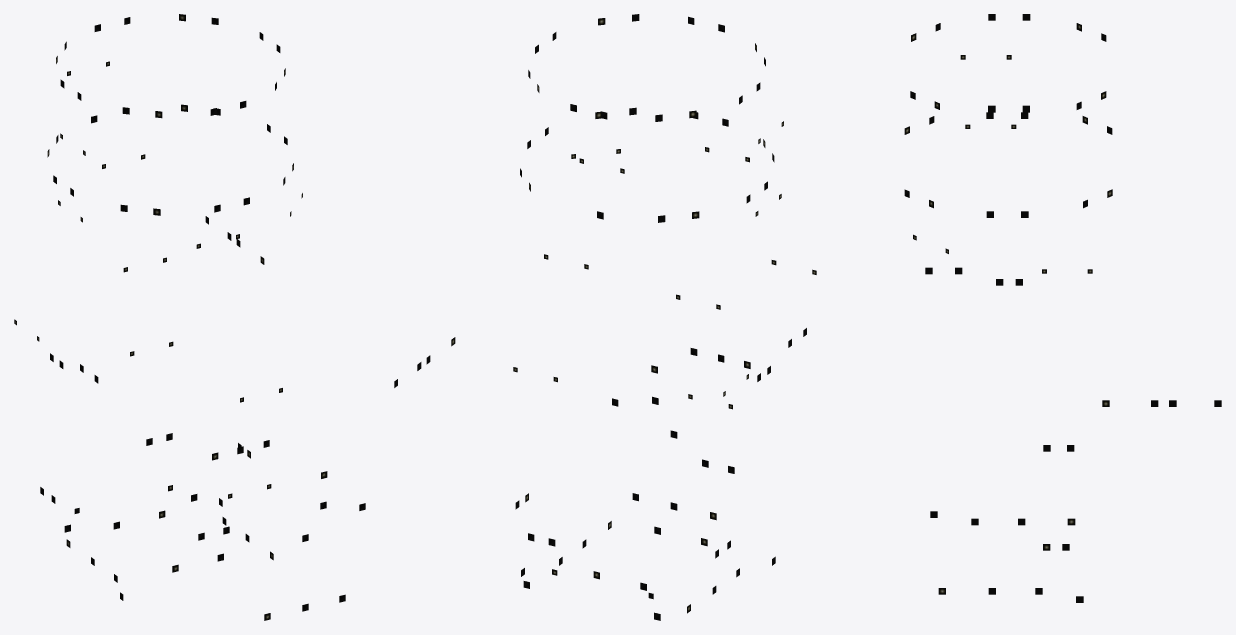
The model's file is stg400_MotRoadlamp_19.obj.
3 renders of one model, left to right at view 1: azimuth 30°, elevation 25°; view 2: azimuth 150°, elevation 25°; view 3: azimuth 270°, elevation 25°, orthographic. The views are drawn at different scales.
Parts seen in each view (by area): view 1: polygon2, polygon1, polygon4, polygon3; view 2: polygon2, polygon1, polygon3, polygon4; view 3: polygon1, polygon3, polygon4, polygon0.
Part boxes in pixels (x1,y1,x2,y2): polygon2: (172, 388, 365, 620); polygon1: (40, 433, 273, 600); polygon4: (56, 14, 285, 155); polygon3: (47, 104, 302, 248); polygon2: (612, 294, 750, 546); polygon1: (515, 493, 775, 620); polygon3: (520, 107, 781, 269); polygon4: (528, 14, 783, 173); polygon1: (930, 445, 1083, 602); polygon3: (904, 105, 1112, 253); polygon4: (910, 14, 1106, 118); polygon0: (925, 267, 1221, 406).
Bounding box in the file's own units: 822 × 1551 × 1036.
Materials: 1 (1 with a texture image).
